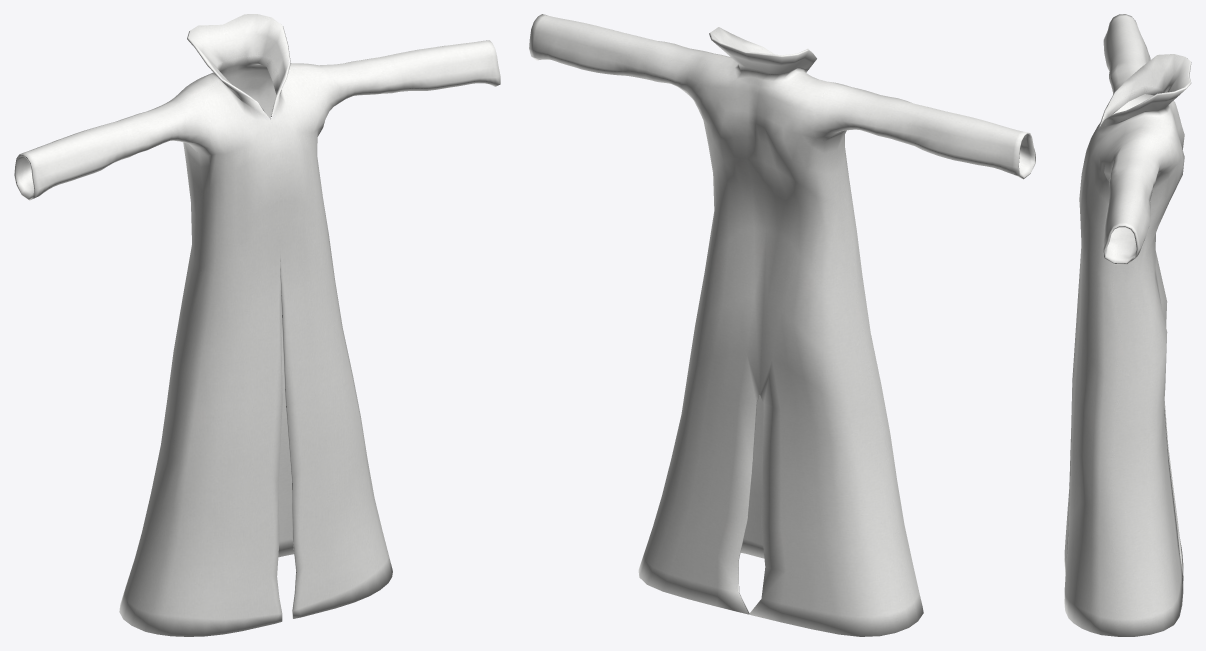
The model's file is silk_robe.glb.
3 renders of one model, left to right at view 1: azimuth 30°, elevation 25°; view 2: azimuth 150°, elevation 25°; view 3: azimuth 270°, elevation 25°, orthographic. The views are drawn at different scales.
Visible parts, largest first — view 1: silk_robe_export; view 2: silk_robe_export; view 3: silk_robe_export.
Part boxes in pixels (x1=…): silk_robe_export: x1=14, y1=14, x2=500, y2=636; silk_robe_export: x1=529, y1=14, x2=1035, y2=636; silk_robe_export: x1=1064, y1=14, x2=1191, y2=636.
Size of the model in its own units: 1.01 by 1.14 by 0.2562.
Materials: 1 (1 with a texture image).
